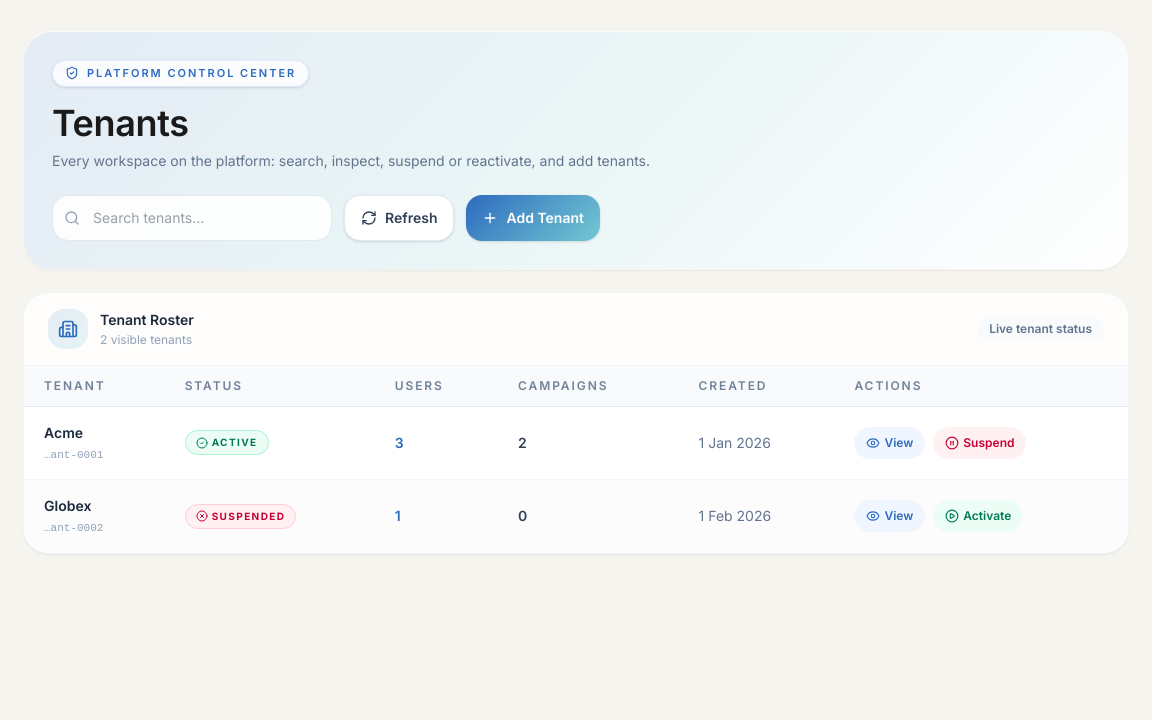
Test: PlatformAdmin page › searches tenants on the server
Check: the text "Acme" is shown, box [44,424,83,440]
Step 1. Type "glob" into the field with placeholder "Search tenants..." → (192, 218), box [52,194,332,240]
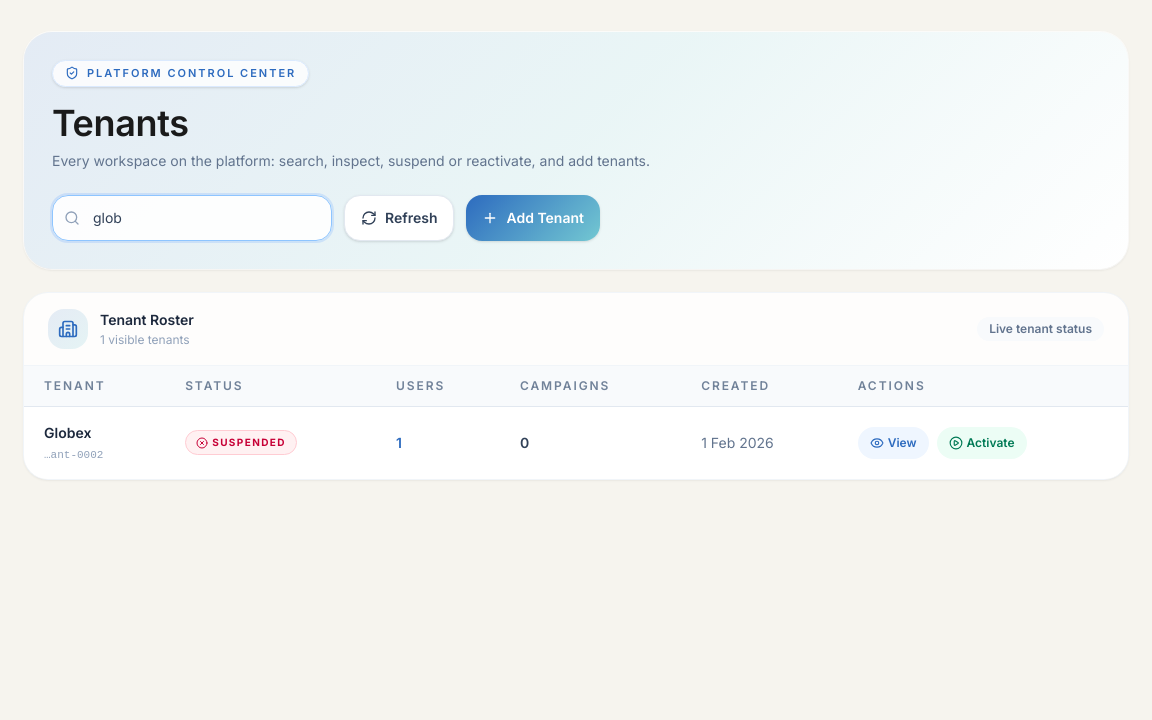
Check: the text "Globex" is shown, box [44,424,91,440]
Check: the text "1 visible tenants" is shown, box [100,332,194,348]
Check: the text "Acme" is gone
